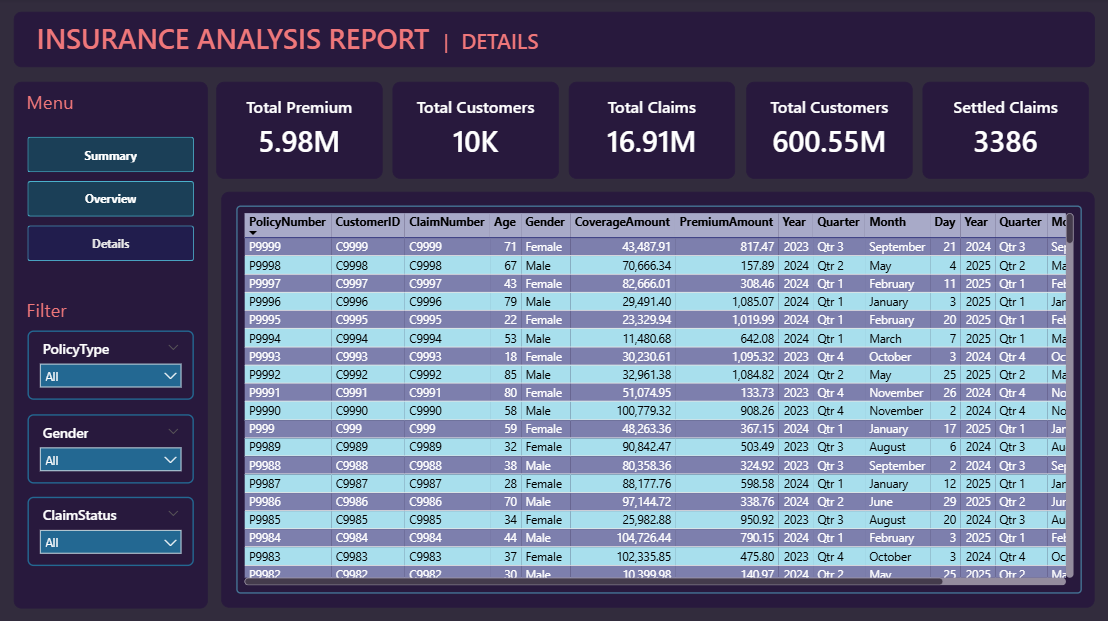

What the dashboard file says about the page in this screenshot:
{"tool":"powerbi","page":{"name":"Details","canvas":[1280,720],"ordinal":2},"visuals":[{"type":"textbox","box":[16,16,1248,64],"z":0},{"type":"textbox","box":[16,96,224,608],"z":1000},{"type":"textbox","box":[248.9,96,192,112],"z":2000,"group":"g1"},{"type":"textbox","box":[452.9,96,192,112],"z":2000,"group":"g2"},{"type":"textbox","box":[656.9,96,192,112],"z":2000,"group":"g3"},{"type":"textbox","box":[860.9,96,192,112],"z":2000,"group":"g4"},{"type":"textbox","box":[1064.9,96,192,112],"z":2000,"group":"g5"},{"type":"slicer","fields":{"Values":["InsuranceData.PolicyType"]},"box":[32,384,192,80],"z":2000},{"type":"slicer","fields":{"Values":["InsuranceData.Age Group"]},"box":[32,480,192,80],"z":3000},{"type":"slicer","fields":{"Values":["InsuranceData.ClaimStatus"]},"box":[32,576,192,80],"z":4000},{"type":"group","id":"g1","title":"Group 2","box":[248.9,96,192,112],"z":5000},{"type":"card","title":"Total Premium","fields":{"Values":["Sum(InsuranceData.PremiumAmount)"]},"box":[264.9,112,160,80],"z":5001,"group":"g1"},{"type":"card","title":"Total Customers","fields":{"Values":["InsuranceData.Total Customers"]},"box":[468.9,112,160,80],"z":5001,"group":"g2"},{"type":"card","title":"Total Claims","fields":{"Values":["Sum(InsuranceData.ClaimAmount)"]},"box":[672.9,112,160,80],"z":5001,"group":"g3"},{"type":"card","title":"Total Customers","fields":{"Values":["Sum(InsuranceData.CoverageAmount)"]},"box":[876.9,112,160,80],"z":5001,"group":"g4"},{"type":"card","title":"Settled Claims","fields":{"Values":["InsuranceData.Settled Claims"]},"box":[1080.9,112,160,80],"z":5001,"group":"g5"},{"type":"group","id":"g2","title":"Group 3","box":[452.9,96,192,112],"z":6000},{"type":"group","id":"g3","title":"Group 4","box":[656.9,96,192,112],"z":7000},{"type":"group","id":"g4","title":"Group 5","box":[860.9,96,192,112],"z":8000},{"type":"group","id":"g5","title":"Group 1","box":[1064.9,96,176,112],"z":9000},{"type":"textbox","box":[256,224,1008,480],"z":10000},{"type":"tableEx","fields":{"Values":["InsuranceData.PolicyNumber","InsuranceData.CustomerID","InsuranceData.ClaimNumber","InsuranceData.Age","InsuranceData.Gender","InsuranceData.CoverageAmount","InsuranceData.PremiumAmount","InsuranceData.PolicyStartDate.Variation.Date Hierarchy.Year","InsuranceData.PolicyStartDate.Variation.Date Hierarchy.Quarter","InsuranceData.PolicyStartDate.Variation.Date Hierarchy.Month","InsuranceData.PolicyStartDate.Variation.Date Hierarchy.Day","InsuranceData.PolicyEndDate.Variation.Date Hierarchy.Year"]},"box":[272,240,976,448],"z":11000},{"type":"pageNavigator","box":[32,160,192,144],"z":11001}]}

Visuals, with their boxes in screenshot pixels (x1, y1, x2, y2), scaled from the page's 1280x720 canvas onto the 1108x621 screenshot:
textbox: [x1=14, y1=14, x2=1094, y2=69]
textbox: [x1=14, y1=83, x2=208, y2=607]
textbox: [x1=215, y1=83, x2=382, y2=179]
textbox: [x1=392, y1=83, x2=558, y2=179]
textbox: [x1=569, y1=83, x2=735, y2=179]
textbox: [x1=745, y1=83, x2=911, y2=179]
textbox: [x1=922, y1=83, x2=1088, y2=179]
slicer - InsuranceData.PolicyType: [x1=28, y1=331, x2=194, y2=400]
slicer - InsuranceData.Age Group: [x1=28, y1=414, x2=194, y2=483]
slicer - InsuranceData.ClaimStatus: [x1=28, y1=497, x2=194, y2=566]
"Group 2" group: [x1=215, y1=83, x2=382, y2=179]
"Total Premium" card: [x1=229, y1=97, x2=368, y2=166]
"Total Customers" card: [x1=406, y1=97, x2=544, y2=166]
"Total Claims" card: [x1=582, y1=97, x2=721, y2=166]
"Total Customers" card: [x1=759, y1=97, x2=898, y2=166]
"Settled Claims" card: [x1=936, y1=97, x2=1074, y2=166]
"Group 3" group: [x1=392, y1=83, x2=558, y2=179]
"Group 4" group: [x1=569, y1=83, x2=735, y2=179]
"Group 5" group: [x1=745, y1=83, x2=911, y2=179]
"Group 1" group: [x1=922, y1=83, x2=1074, y2=179]
textbox: [x1=222, y1=193, x2=1094, y2=607]
tableEx - InsuranceData.PolicyNumber x InsuranceData.CustomerID: [x1=235, y1=207, x2=1080, y2=593]
pageNavigator: [x1=28, y1=138, x2=194, y2=262]
